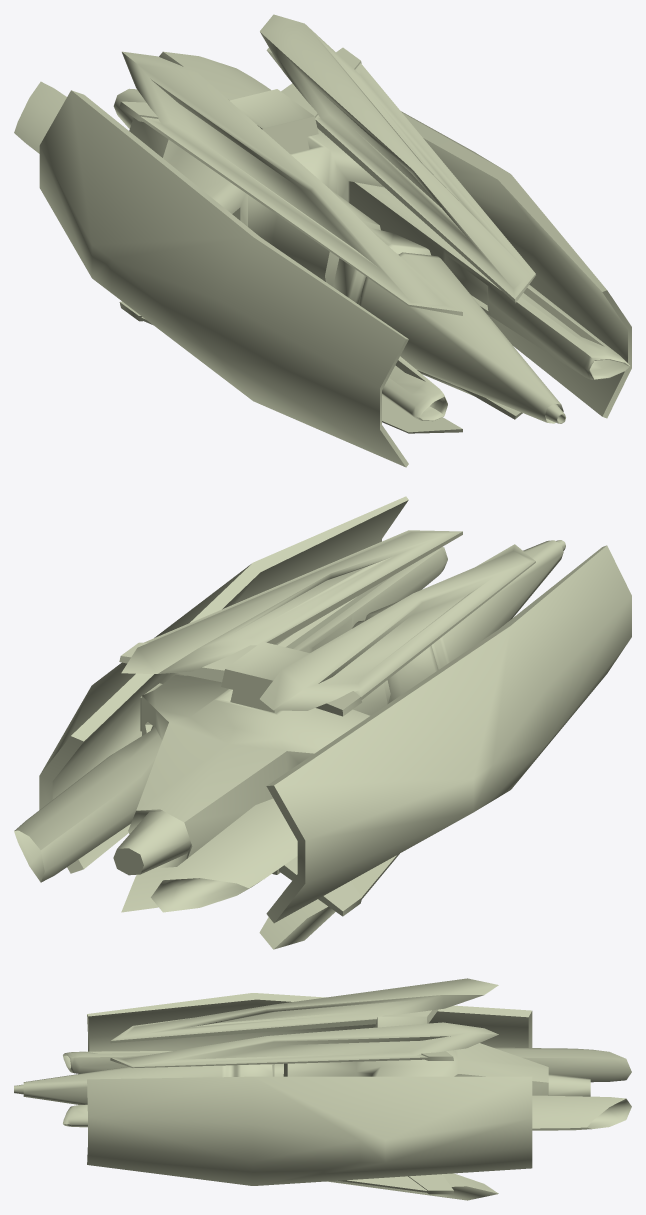
Rendered from righteousvengeance.obj.
3 views of the same model, one above another, from view 1: azimuth 30°, elevation 25°; view 2: azimuth 150°, elevation 25°; view 3: azimuth 270°, elevation 25° (orthographic). The views are drawn at different scales.
Visible parts, largest first — view 1: Cube1_cut3; view 2: Cube1_cut3; view 3: Cube1_cut3.
Boxes of the visible parts, x1,y1,x2,y2 form: Cube1_cut3: (14, 14, 631, 467); Cube1_cut3: (14, 496, 631, 949); Cube1_cut3: (14, 978, 631, 1200).
Size of the model in its own units: 0.9118 by 0.5748 by 1.92.
